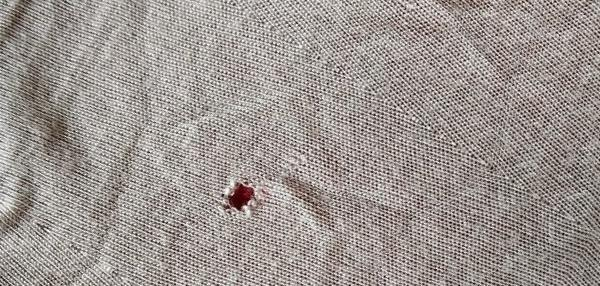hole: (223, 178, 257, 217)
